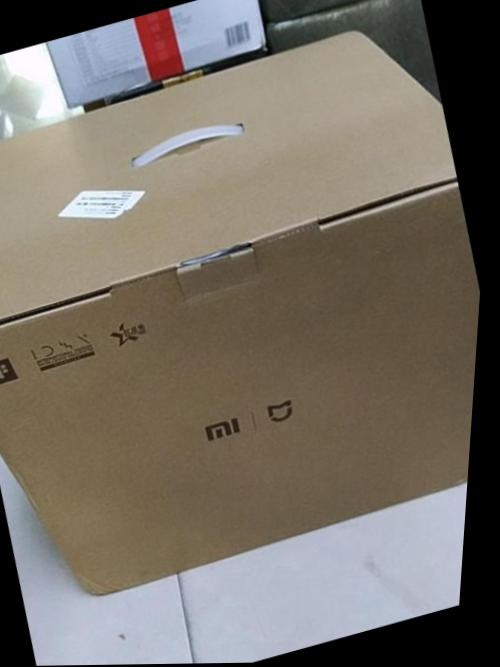cardboard: (0, 0, 476, 592)
